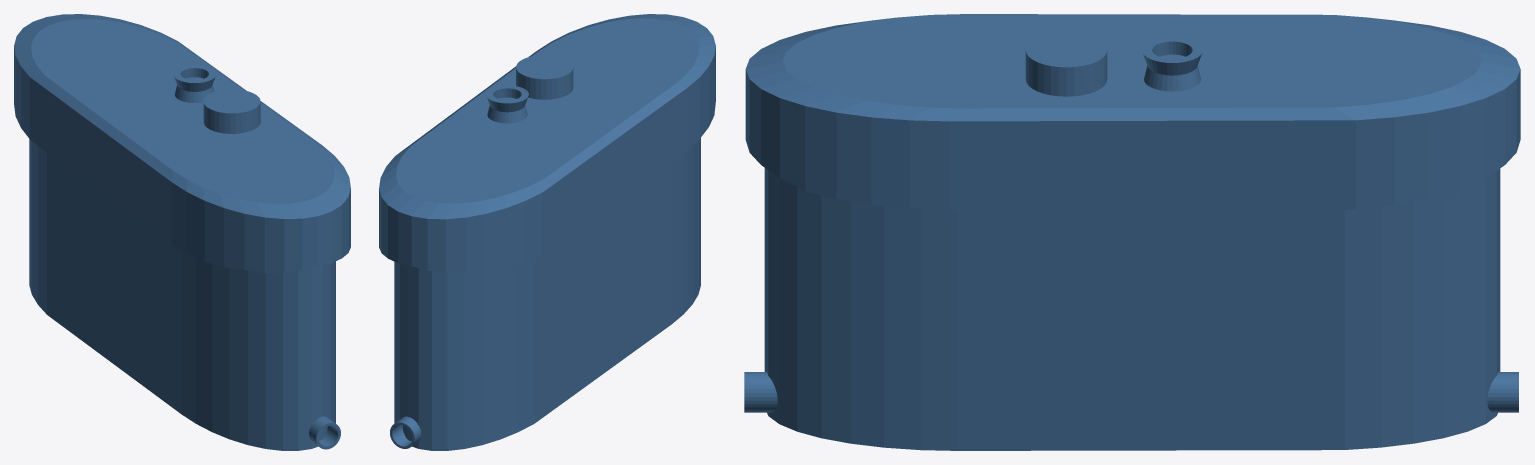
The model's file is saniaccess-pump.glb.
3 renders of one model, left to right at view 1: azimuth 30°, elevation 25°; view 2: azimuth 150°, elevation 25°; view 3: azimuth 270°, elevation 25°, orthographic. The views are drawn at different scales.
Visible parts, largest first — view 1: Product2; view 2: Product2; view 3: Product2.
Boxes of the visible parts, x1,y1,x2,y2 form: Product2: [14, 14, 350, 450]; Product2: [379, 14, 715, 450]; Product2: [744, 14, 1520, 450].
Size of the model in its own units: 1.22 by 2.03 by 3.81.
